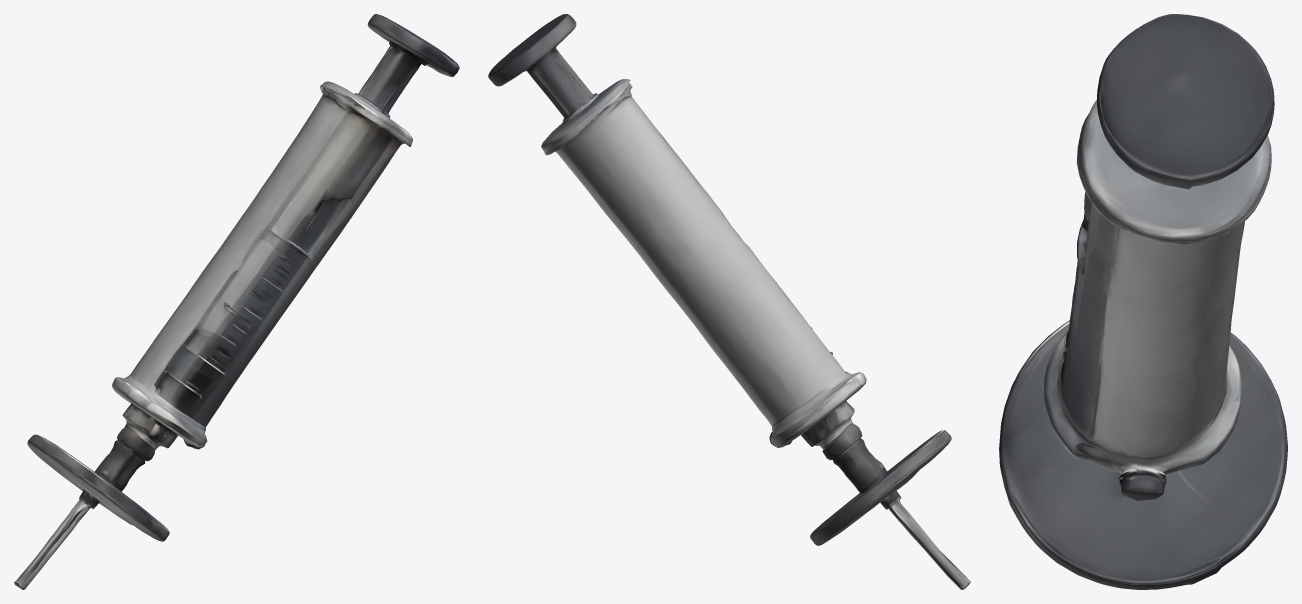
The model's file is tripo_convert_5d42a80b-bd95-4db9-a2bc-91970654601e.fbx.
3 renders of one model, left to right at view 1: azimuth 30°, elevation 25°; view 2: azimuth 150°, elevation 25°; view 3: azimuth 270°, elevation 25°, orthographic. The views are drawn at different scales.
Visible parts, largest first — view 1: tripo_node_5d42a80b; view 2: tripo_node_5d42a80b; view 3: tripo_node_5d42a80b.
Boxes of the visible parts, x1,y1,x2,y2 form: tripo_node_5d42a80b: (14,14,459,589); tripo_node_5d42a80b: (488,14,970,589); tripo_node_5d42a80b: (999,14,1287,589).
Size of the model in its own units: 0.9979 by 1 by 0.3134.
1 material, 1 textured.
